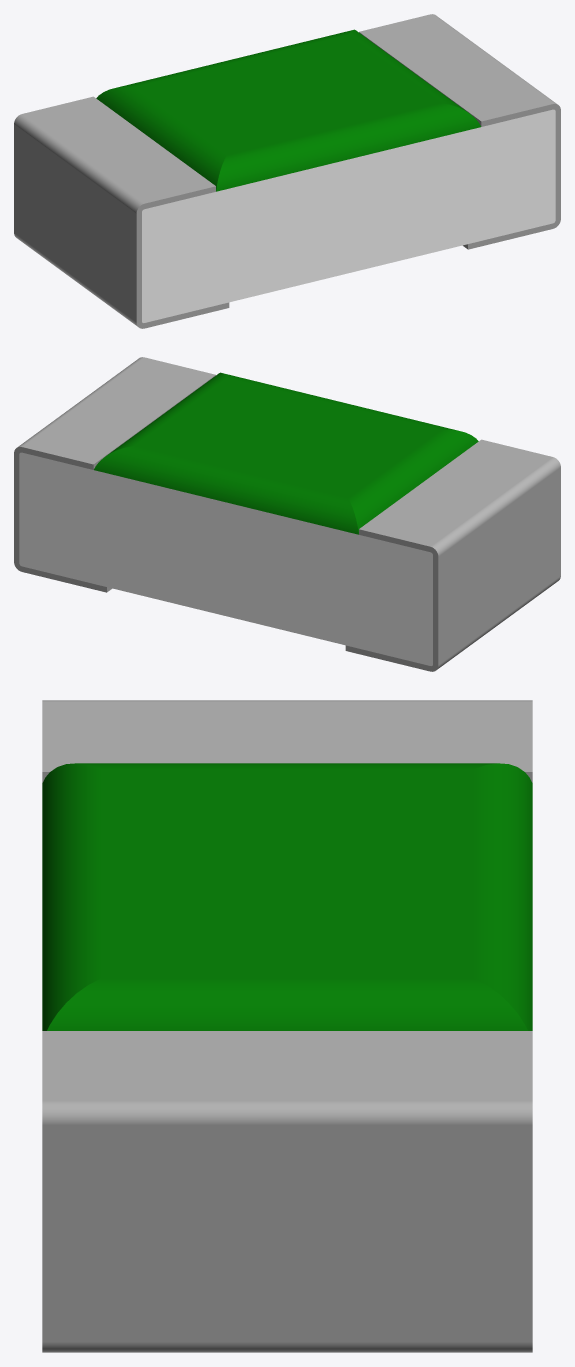
File: WE-VE femtoF.gltf
3 views of the same model, one above another, from view 1: azimuth 30°, elevation 25°; view 2: azimuth 150°, elevation 25°; view 3: azimuth 270°, elevation 25° (orthographic). The views are drawn at different scales.
Parts seen in each view (by area): view 1: ceramic substrate, Over Coat, contacs, contacs001; view 2: ceramic substrate, Over Coat, contacs, contacs001; view 3: contacs001, Over Coat, contacs.
Boxes of the visible parts, x1,y1,x2,y2 form: ceramic substrate: (142,109,555,322); Over Coat: (96,29,480,191); contacs: (14,96,229,328); contacs001: (359,14,560,249); ceramic substrate: (19,452,432,665); Over Coat: (94,372,478,534); contacs: (345,439,560,671); contacs001: (14,357,215,592); contacs001: (42,1031,532,1352); Over Coat: (42,763,532,1030); contacs: (42,700,532,782).
Bounding box in the file's own units: 0.0016 × 0.0005 × 0.0008.
